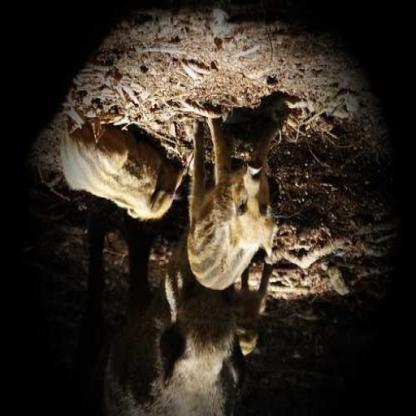boar: (166, 87, 304, 298)
